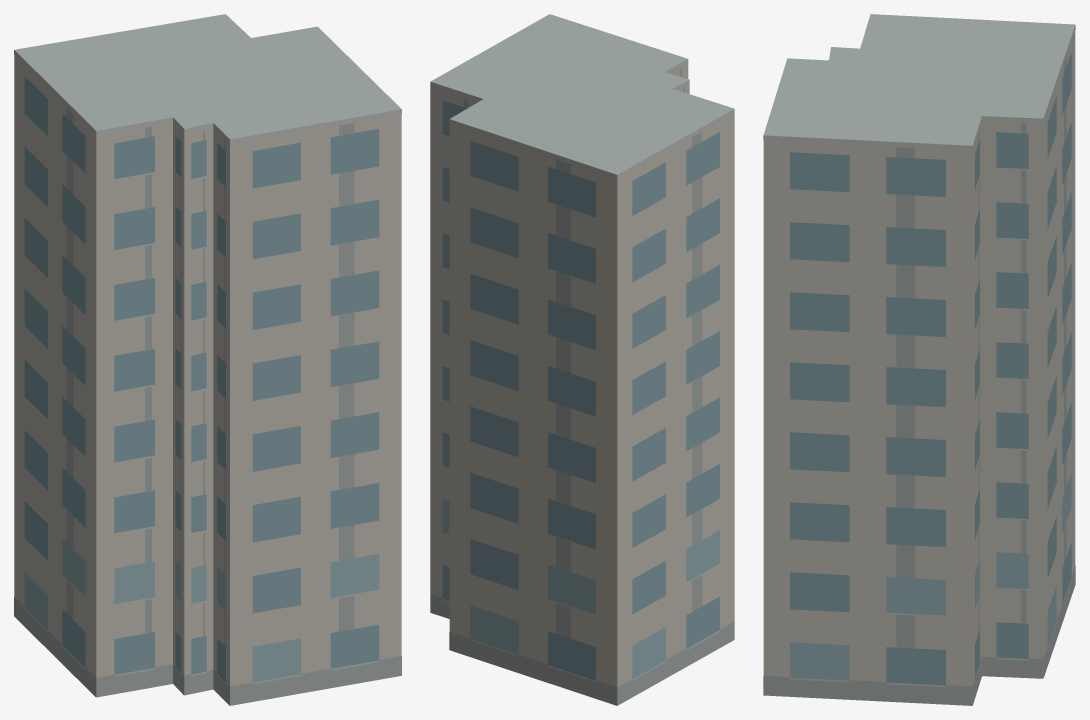
File: survey-upis-33035876.glb
3 renders of one model, left to right at view 1: azimuth 30°, elevation 25°; view 2: azimuth 150°, elevation 25°; view 3: azimuth 270°, elevation 25°, orthographic. The views are drawn at different scales.
Parts seen in each view (by area): view 1: survey-upis-33035876.tmp; view 2: survey-upis-33035876.tmp; view 3: survey-upis-33035876.tmp.
Boxes of the visible parts, bbox=[...] form: survey-upis-33035876.tmp: bbox=[14, 14, 401, 705]; survey-upis-33035876.tmp: bbox=[430, 14, 734, 705]; survey-upis-33035876.tmp: bbox=[763, 14, 1075, 705].
Size of the model in its own units: 13.05 by 25.85 by 13.06.
